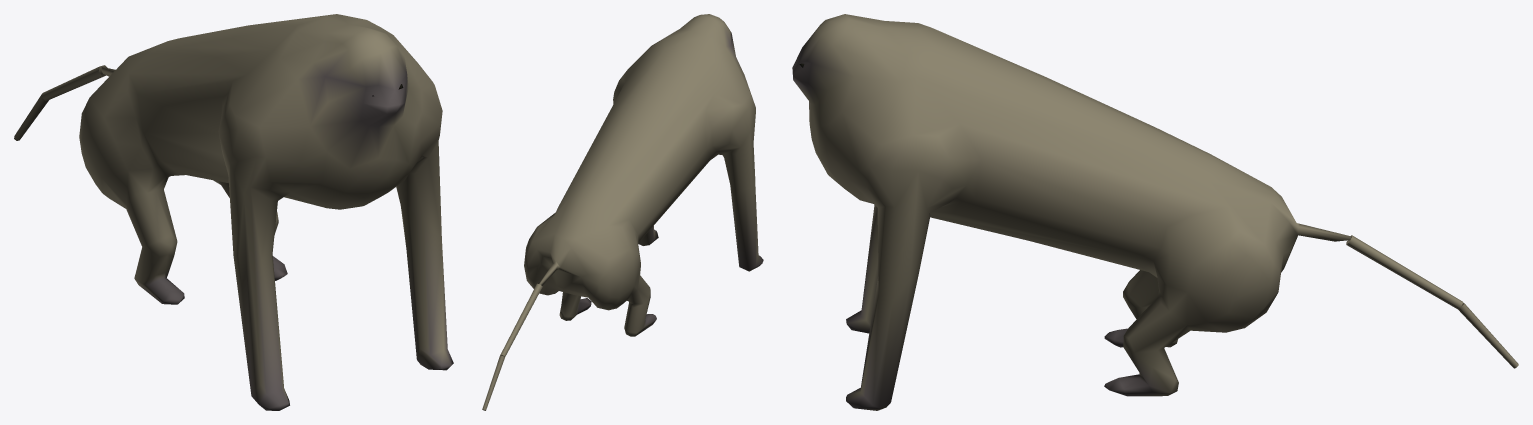
The model's file is pavian.glb.
3 renders of one model, left to right at view 1: azimuth 30°, elevation 25°; view 2: azimuth 150°, elevation 25°; view 3: azimuth 270°, elevation 25°, orthographic. The views are drawn at different scales.
Parts seen in each view (by area): view 1: lack; view 2: lack; view 3: lack.
Boxes of the visible parts, bbox=[...] form: lack: bbox=[14, 14, 453, 410]; lack: bbox=[482, 14, 763, 410]; lack: bbox=[792, 14, 1518, 410].
Size of the model in its own units: 0.4034 by 0.6946 by 1.3.
